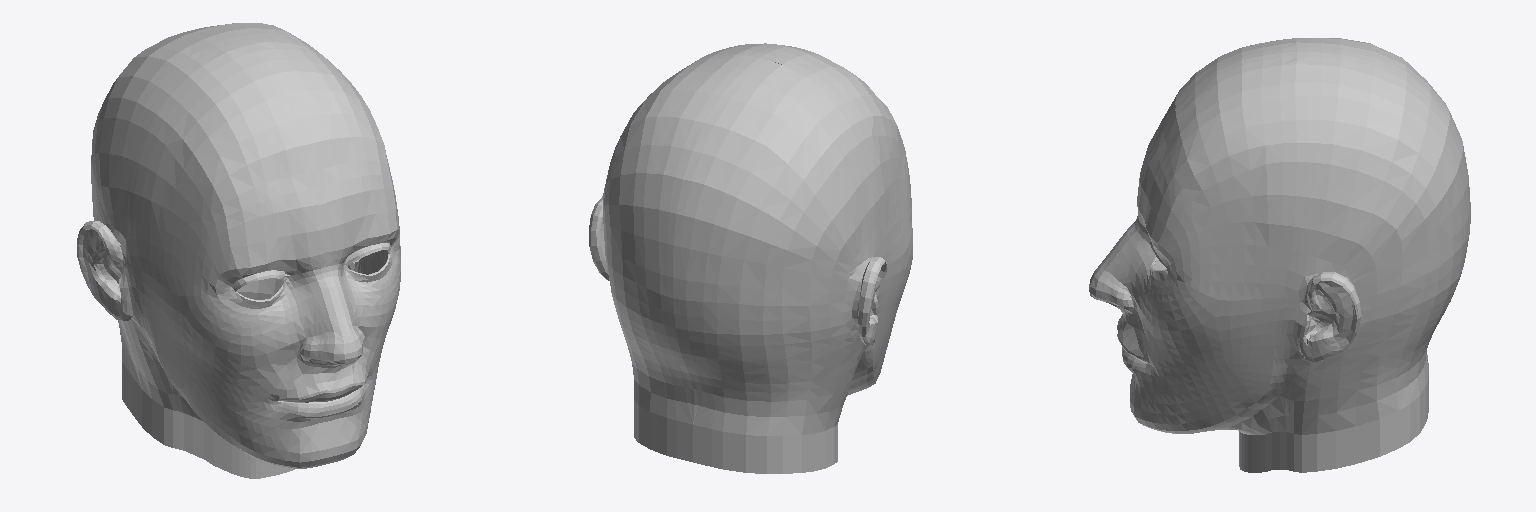
File: Head.obj
3 views of the same model, side by side, from view 1: azimuth 30°, elevation 25°; view 2: azimuth 150°, elevation 25°; view 3: azimuth 270°, elevation 25° (orthographic).
Visible parts, largest first — view 1: male_head.obj_male_head.obj.002; view 2: male_head.obj_male_head.obj.002; view 3: male_head.obj_male_head.obj.002.
Boxes of the visible parts, box(x1,y1,x2,y2) form: male_head.obj_male_head.obj.002: box(77, 23, 400, 478); male_head.obj_male_head.obj.002: box(589, 43, 912, 473); male_head.obj_male_head.obj.002: box(1089, 38, 1470, 472).
Bounding box in the file's own units: 30.6 × 42.06 × 35.6.